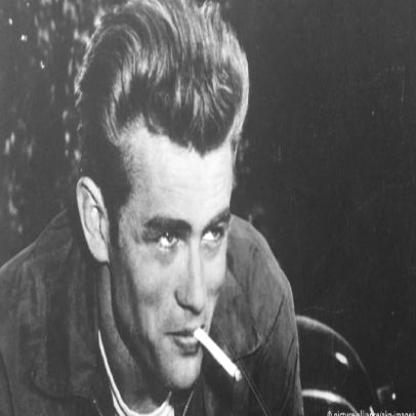cigarette: (194, 326, 242, 386)
person: (15, 0, 289, 415)
